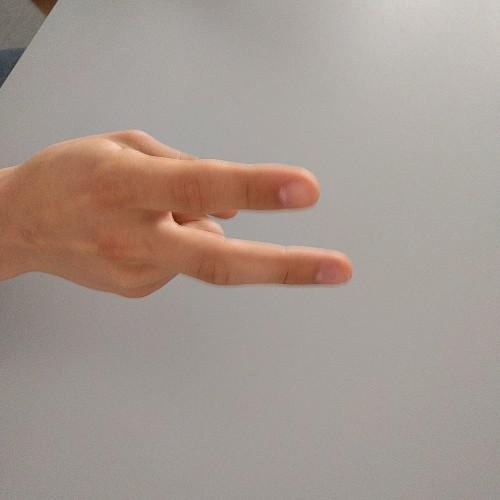scissors: (24, 126, 358, 302)
